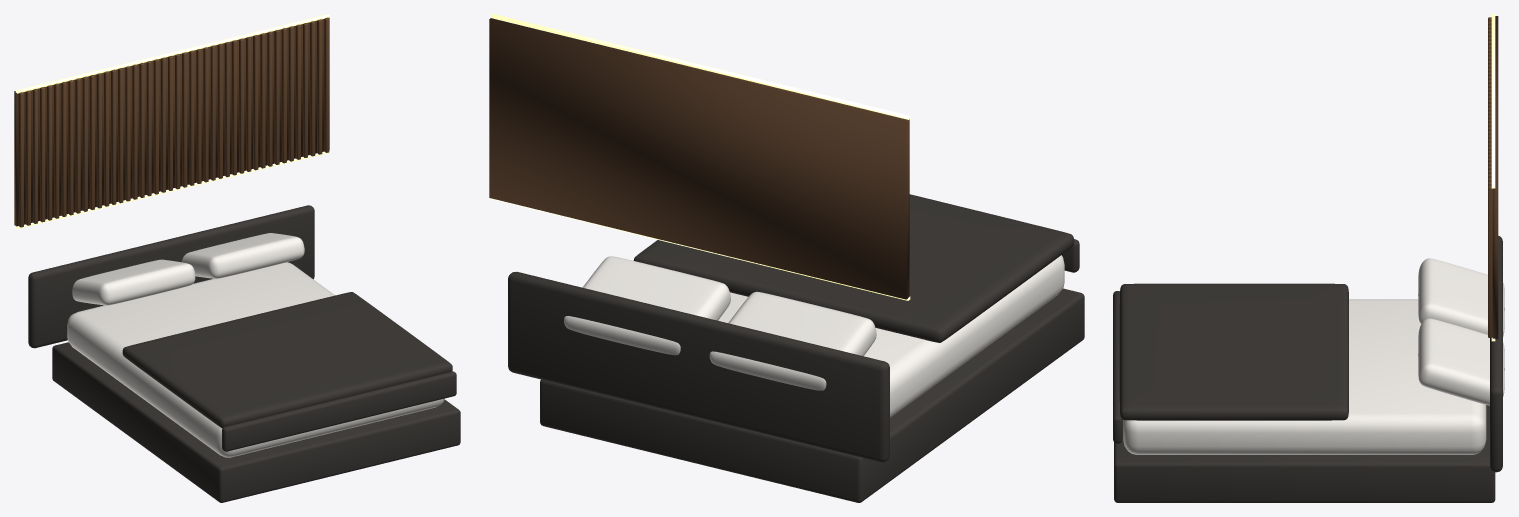
The model's file is bl_bed_queen_dark.glb.
The picture shows the model from 3 angles, left to right: view 1: azimuth 30°, elevation 25°; view 2: azimuth 150°, elevation 25°; view 3: azimuth 270°, elevation 25°; orthographic projection. The views are drawn at different scales.
Parts seen in each view (by area): view 1: duvet, platform, mattress, slatBack, hb, duvetDrop, pillow, pillow.001, ledTop, slat12, slat16, slat23 (+42 smaller); view 2: slatBack, hb, platform, duvet, mattress, pillow, pillow.001, ledTop, ledBot; view 3: duvet, mattress, platform, pillow.001, pillow, hb, slatBack, duvetDrop, ledTop, slat43.
Part boxes in pixels (<box>): duvet: <box>122,292,452,428</box>; platform: <box>52,342,460,502</box>; mattress: <box>67,262,444,457</box>; slatBack: <box>14,17,329,226</box>; hb: <box>28,205,314,348</box>; duvetDrop: <box>222,371,456,451</box>; pillow: <box>72,259,195,305</box>; pillow.001: <box>181,233,304,278</box>; ledTop: <box>15,14,329,93</box>; slat12: <box>104,71,109,206</box>; slat16: <box>132,64,137,199</box>; slat23: <box>182,52,187,187</box>; slatBack: <box>489,18,909,299</box>; hb: <box>508,271,889,462</box>; platform: <box>540,288,1084,502</box>; duvet: <box>633,194,1074,342</box>; mattress: <box>718,255,1064,417</box>; pillow: <box>709,291,876,390</box>; pillow.001: <box>564,256,730,355</box>; ledTop: <box>491,14,910,119</box>; ledBot: <box>491,198,910,300</box>; duvet: <box>1119,283,1348,420</box>; mattress: <box>1123,299,1486,454</box>; platform: <box>1114,405,1495,502</box>; pillow.001: <box>1418,318,1504,405</box>; pillow: <box>1418,258,1504,336</box>; hb: <box>1490,236,1502,472</box>; slatBack: <box>1492,16,1498,339</box>; duvetDrop: <box>1113,291,1122,443</box>; ledTop: <box>1491,14,1495,188</box>; slat43: <box>1488,185,1492,337</box>.
Bounding box in the file's own units: 2.2 × 2.01 × 2.12.
